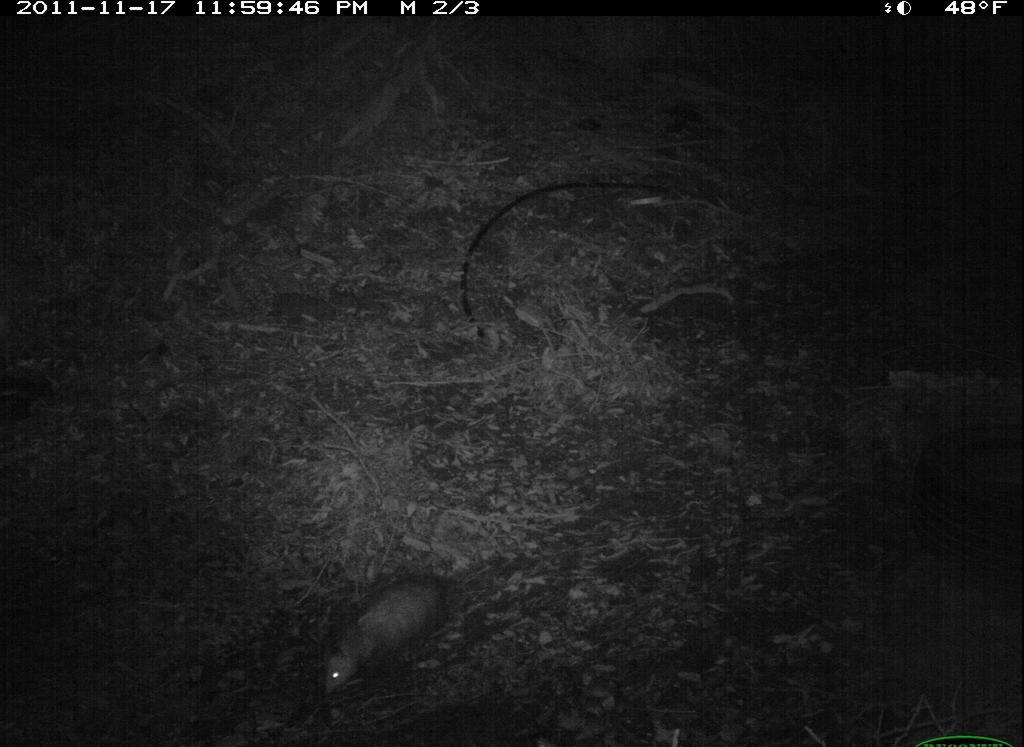opossum: (289, 545, 496, 711)
